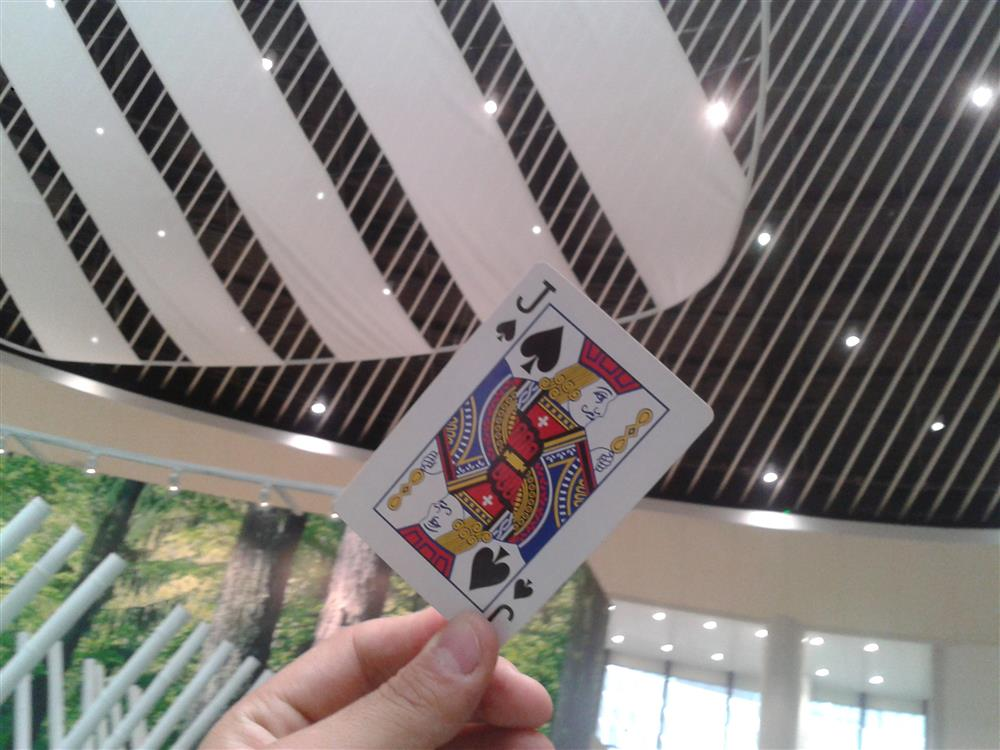poker: (338, 240, 740, 670)
